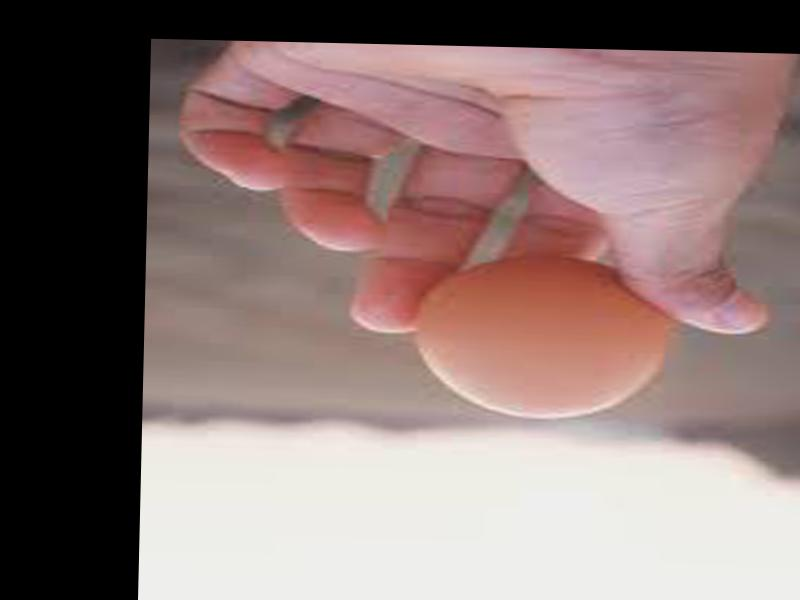Eggs: (412, 256, 670, 421)
